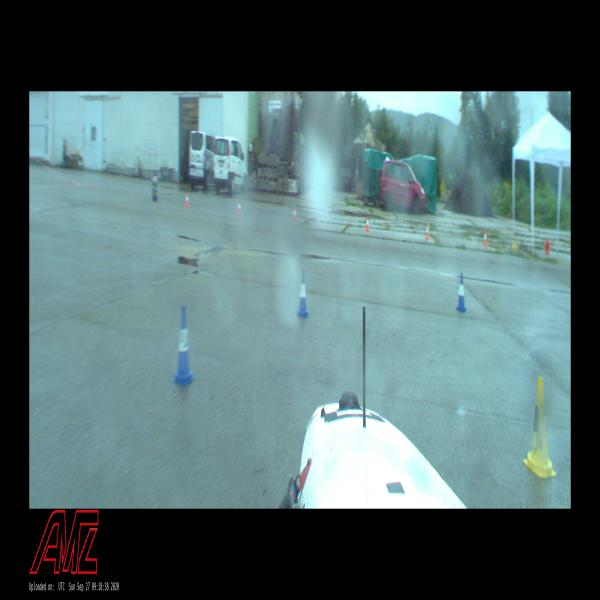blue_cone: (176, 305, 194, 383), (298, 270, 308, 317), (457, 273, 466, 312)
orange_cone: (482, 230, 488, 247), (545, 240, 550, 254), (426, 223, 430, 239), (365, 216, 369, 231), (293, 206, 296, 222), (238, 201, 241, 214), (186, 194, 189, 206)
yellow_cone: (527, 377, 552, 477), (511, 241, 515, 250), (515, 241, 518, 250)
